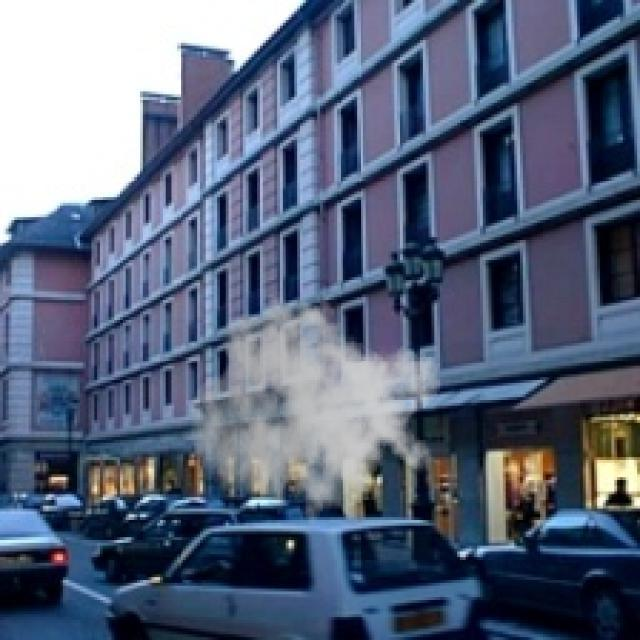Smoke: (188, 286, 442, 538)
